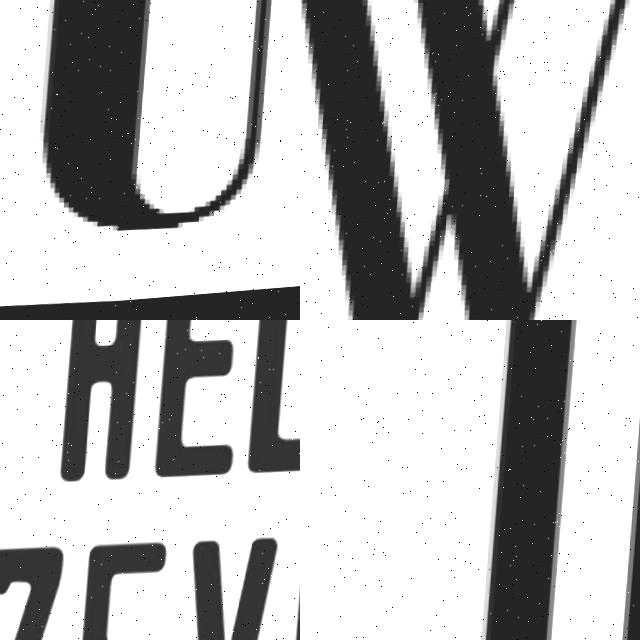7: (0, 546, 65, 640)
D: (432, 320, 640, 640)
E: (155, 320, 257, 486)
F: (72, 541, 167, 640)
H: (55, 320, 144, 489)
L: (248, 320, 300, 479)
U: (0, 0, 300, 248)
V: (177, 539, 280, 640)
W: (300, 0, 640, 320)
